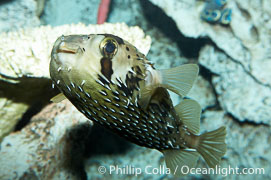Diodon_holocanthus: (37, 28, 251, 170)
